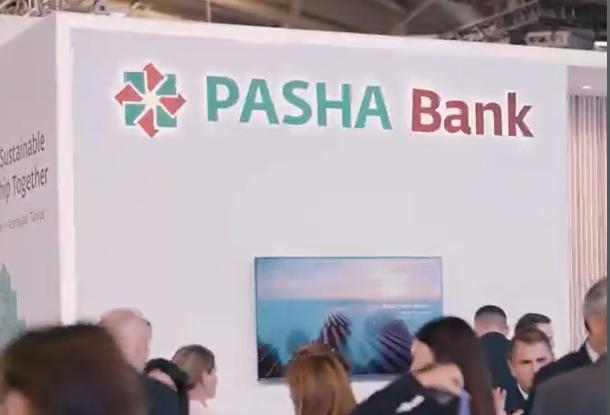Pasha Bank: (112, 61, 187, 138)
